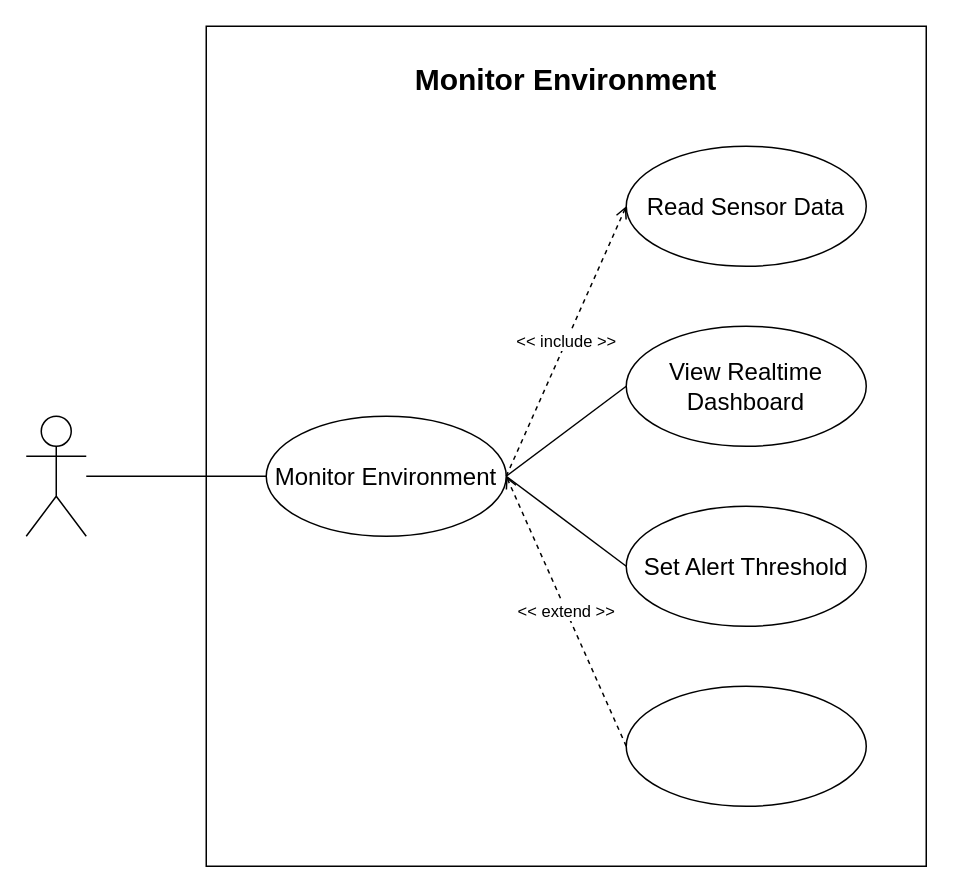
This 953x893 diagram has some shape labels left out. The shapes that lost their labels are listed below. From the top down, each one's centre as x and y in pixels, then its label:
the point at 55,475: User
the point at 745,745: Trigger Notification
